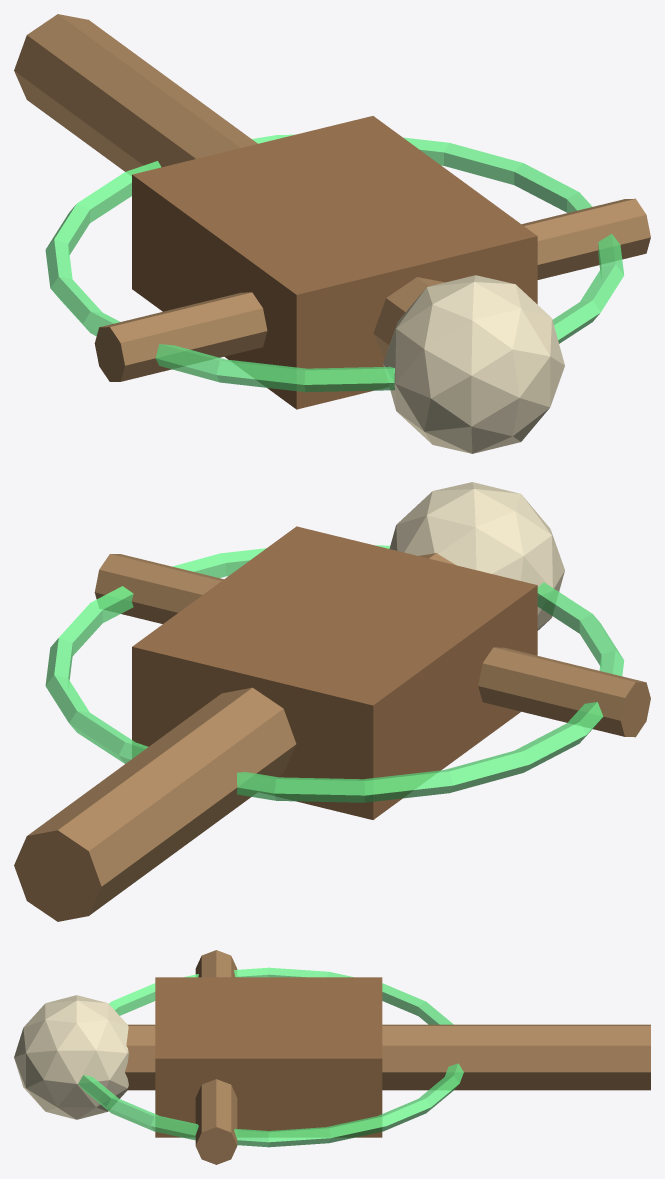
File: rhythm_parry_metronome.glb
3 renders of one model, top to bottom at view 1: azimuth 30°, elevation 25°; view 2: azimuth 150°, elevation 25°; view 3: azimuth 270°, elevation 25°, orthographic. The views are drawn at different scales.
Parts seen in each view (by area): view 1: dummy_torso, dummy_head, dummy_post, timing_ring, arm_bar; view 2: dummy_torso, dummy_post, timing_ring, arm_bar, dummy_head; view 3: dummy_torso, dummy_post, dummy_head, timing_ring, arm_bar.
Part boxes in pixels (bbox=[...]): dummy_torso: bbox=[132, 116, 537, 409]; dummy_head: bbox=[383, 275, 564, 453]; dummy_post: bbox=[14, 14, 445, 358]; timing_ring: bbox=[45, 134, 624, 392]; arm_bar: bbox=[94, 198, 650, 381]; dummy_torso: bbox=[132, 526, 537, 819]; dummy_post: bbox=[14, 553, 455, 921]; timing_ring: bbox=[45, 545, 624, 802]; arm_bar: bbox=[94, 554, 650, 737]; dummy_head: bbox=[389, 482, 564, 630]; dummy_torso: bbox=[155, 977, 382, 1137]; dummy_post: bbox=[125, 1024, 650, 1090]; dummy_head: bbox=[14, 995, 128, 1119]; timing_ring: bbox=[78, 967, 463, 1147]; arm_bar: bbox=[195, 950, 237, 1164].
Bounding box in the file's own units: 1.2 × 0.36 × 1.83.
